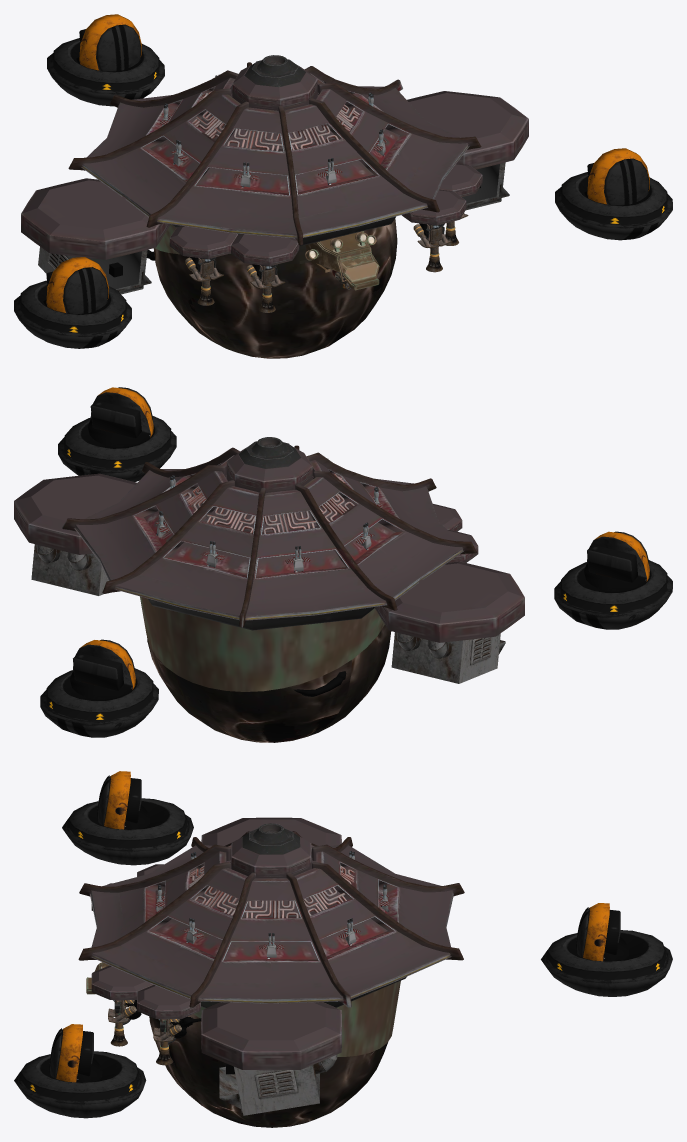
File: throne_drone.glb
3 views of the same model, one above another, from view 1: azimuth 30°, elevation 25°; view 2: azimuth 150°, elevation 25°; view 3: azimuth 270°, elevation 25° (orthographic).
Visible parts, largest first — view 1: hovercore, bubble1, turret03-base-geometry002, turret02-base-geometry001, drone1, drone2, drone3, corebot, dturret03-arms, dturret01-arms, dturret02-arms, cockpit (+10 smaller); view 2: hovercore, base, bubble1, turret03-base-geometry002, turret02-base-geometry001, drone3, drone2, drone1, turret03-base-geometry002_1, corebot, dturret01-arms, dturret02-arms (+3 smaller); view 3: hovercore, turret02-base-geometry001, bubble1, drone2, drone1, drone3, turret02-base-geometry001_1, corebot, base, dturret03-arms, dturret02-arms, dturret01-arms (+5 smaller).
Boxes of the visible parts, x1,y1,x2,y2 form: hovercore: (68, 62, 481, 245); bubble1: (153, 218, 397, 358); turret03-base-geometry002: (21, 178, 170, 259); turret02-base-geometry001: (407, 91, 528, 169); drone1: (555, 172, 672, 240); drone2: (14, 280, 131, 348); drone3: (47, 38, 164, 106); corebot: (232, 55, 317, 110); dturret03-arms: (76, 14, 141, 71); dturret01-arms: (584, 148, 649, 205); dturret02-arms: (43, 257, 109, 313); cockpit: (305, 231, 379, 290); hovercore: (62, 445, 476, 627); base: (140, 596, 384, 691); bubble1: (147, 625, 391, 742); turret03-base-geometry002: (374, 561, 524, 642); turret02-base-geometry001: (14, 473, 136, 554); drone3: (40, 668, 158, 737); drone2: (554, 560, 672, 629); drone1: (58, 416, 176, 481); turret03-base-geometry002_1: (391, 632, 505, 683); corebot: (226, 437, 312, 492); dturret01-arms: (87, 387, 153, 447); dturret02-arms: (584, 531, 649, 591); hovercore: (78, 831, 464, 1007); turret02-base-geometry001: (201, 1002, 341, 1070); bubble1: (149, 1014, 387, 1127); drone2: (62, 798, 193, 865); drone1: (14, 1051, 146, 1118); drone3: (541, 930, 672, 996); turret02-base-geometry001_1: (219, 1054, 337, 1115); corebot: (231, 823, 311, 878); base: (194, 976, 406, 1056); dturret03-arms: (576, 903, 629, 961); dturret02-arms: (97, 771, 150, 829); dturret01-arms: (49, 1024, 102, 1082).
Size of the model in its own units: 210 by 93.76 by 195.
8 materials, 7 textured.
